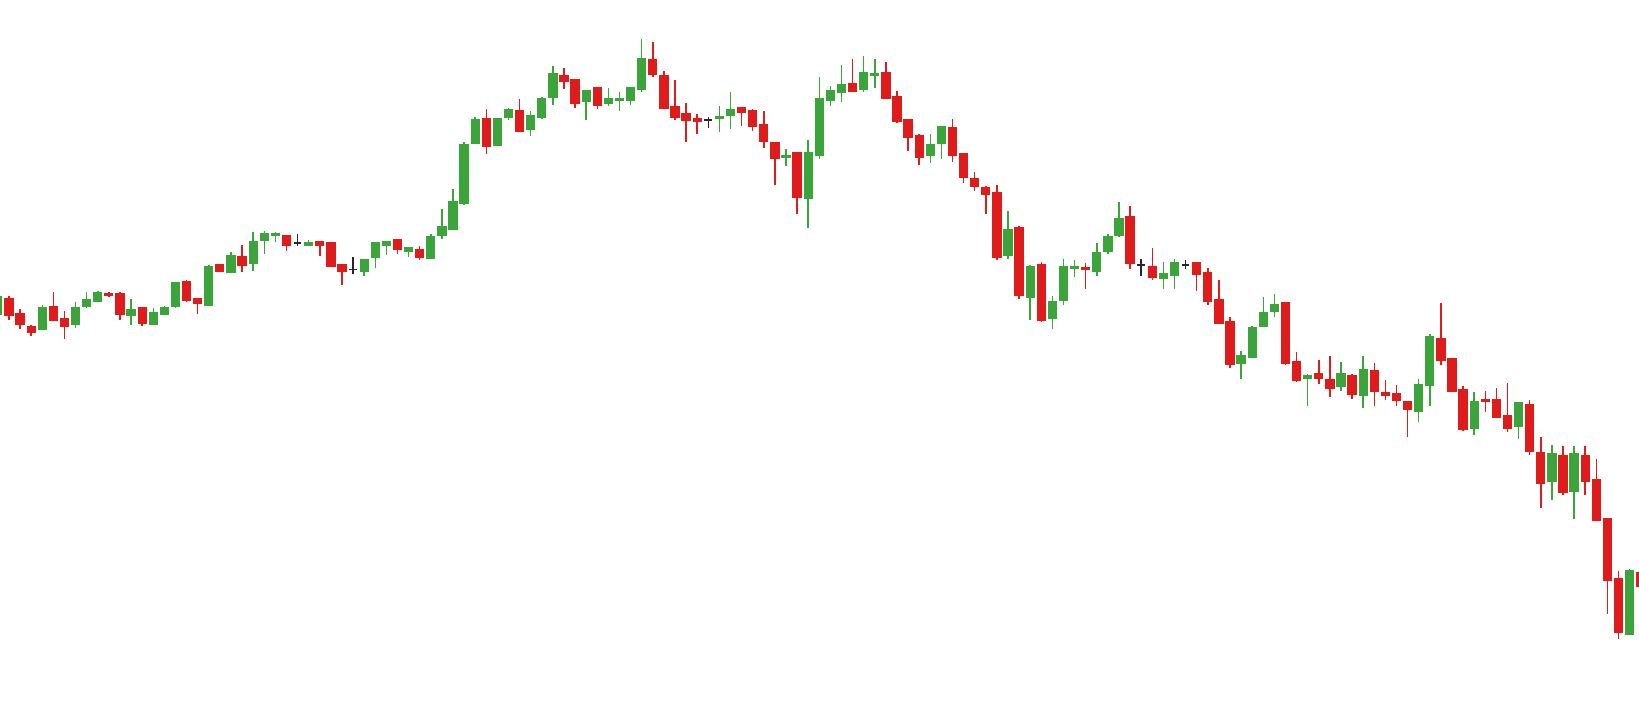sell: (1338, 292, 1448, 404)
